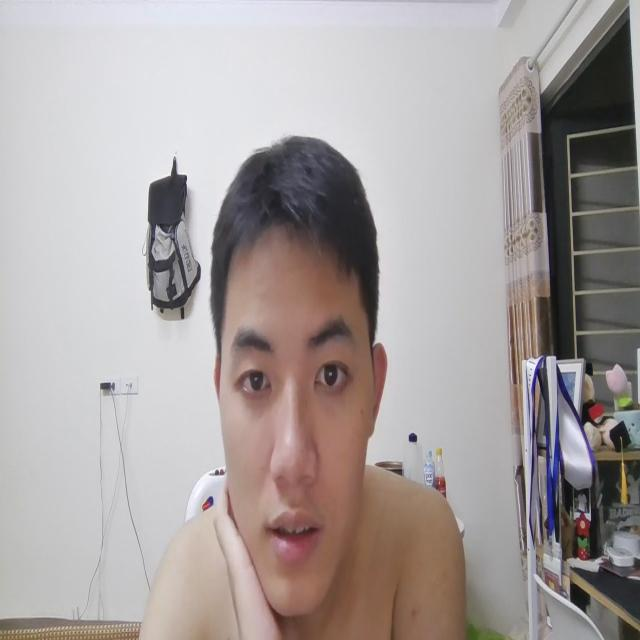student: (186, 145, 397, 632)
